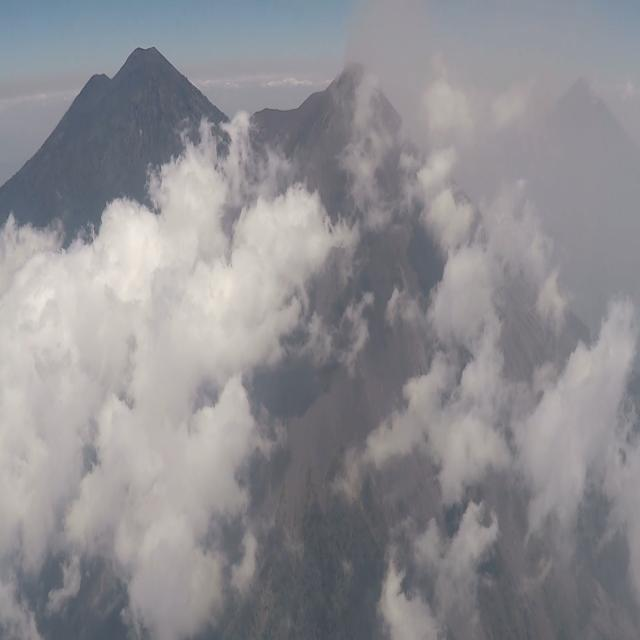Summit: (298, 56, 412, 138)
